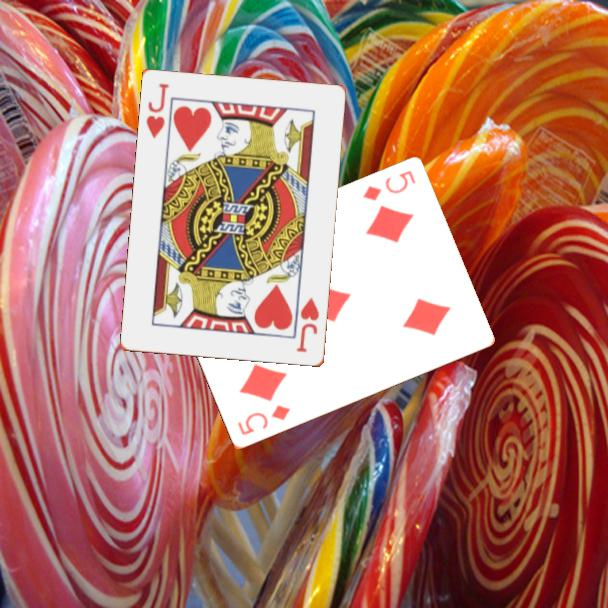d05: (234, 402, 293, 439), (359, 167, 418, 204)
h11: (143, 80, 172, 142), (293, 294, 322, 355)
